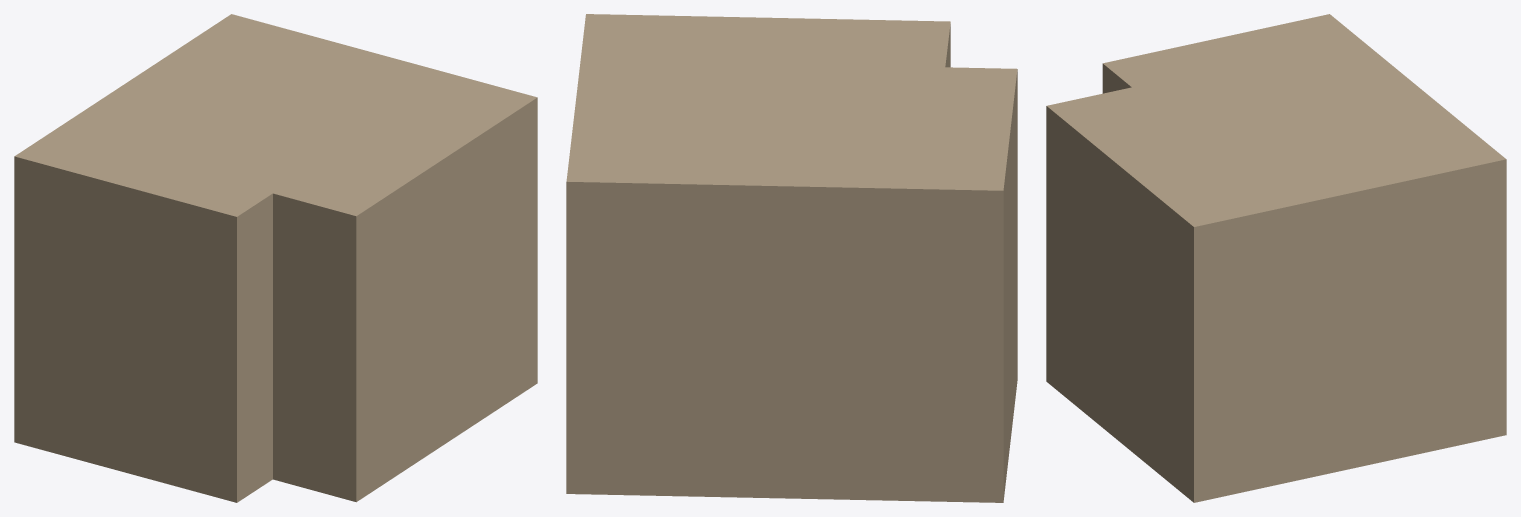
File: bld_107610467.dae
The picture shows the model from 3 angles, left to right: view 1: azimuth 30°, elevation 25°; view 2: azimuth 150°, elevation 25°; view 3: azimuth 270°, elevation 25°; orthographic projection. The views are drawn at different scales.
Visible parts, largest first — view 1: bld_107610467; view 2: bld_107610467; view 3: bld_107610467.
Part boxes in pixels (box(x1,y1,x2,y2)): bld_107610467: box(14, 14, 537, 502); bld_107610467: box(566, 14, 1017, 502); bld_107610467: box(1046, 14, 1506, 502).
Size of the model in its own units: 13.26 by 12.09 by 8.
